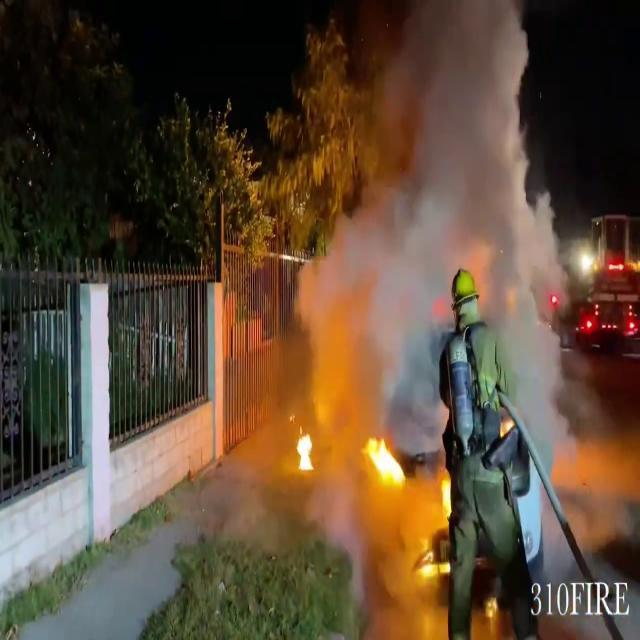Fire: (364, 432, 408, 495), (293, 424, 316, 474)
Smoke: (294, 0, 590, 419)
